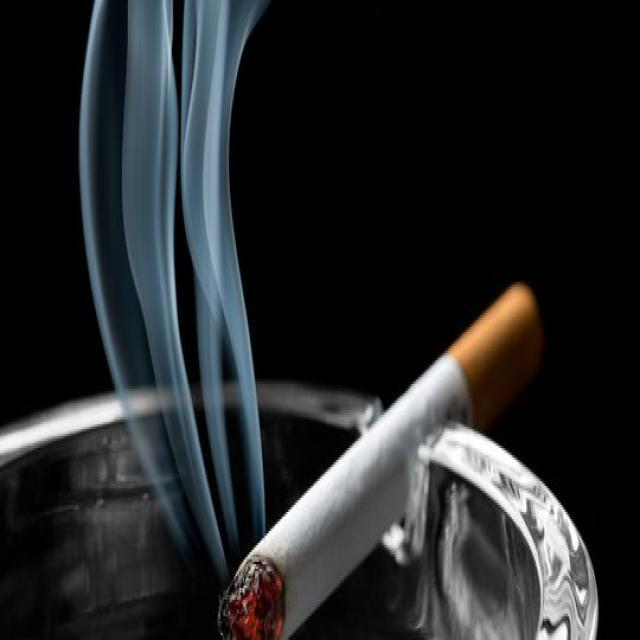rokok: (212, 272, 546, 640)
